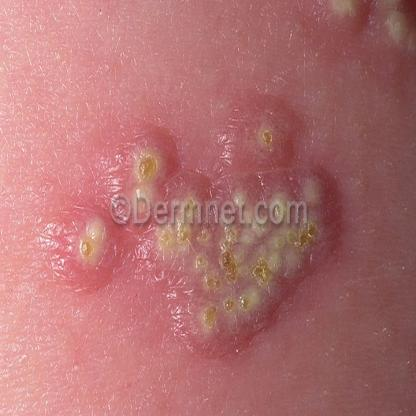Warts: (181, 239, 296, 338)
